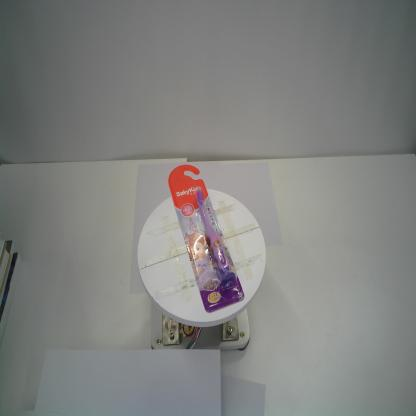Personal Hygiene: (168, 164, 244, 313)
